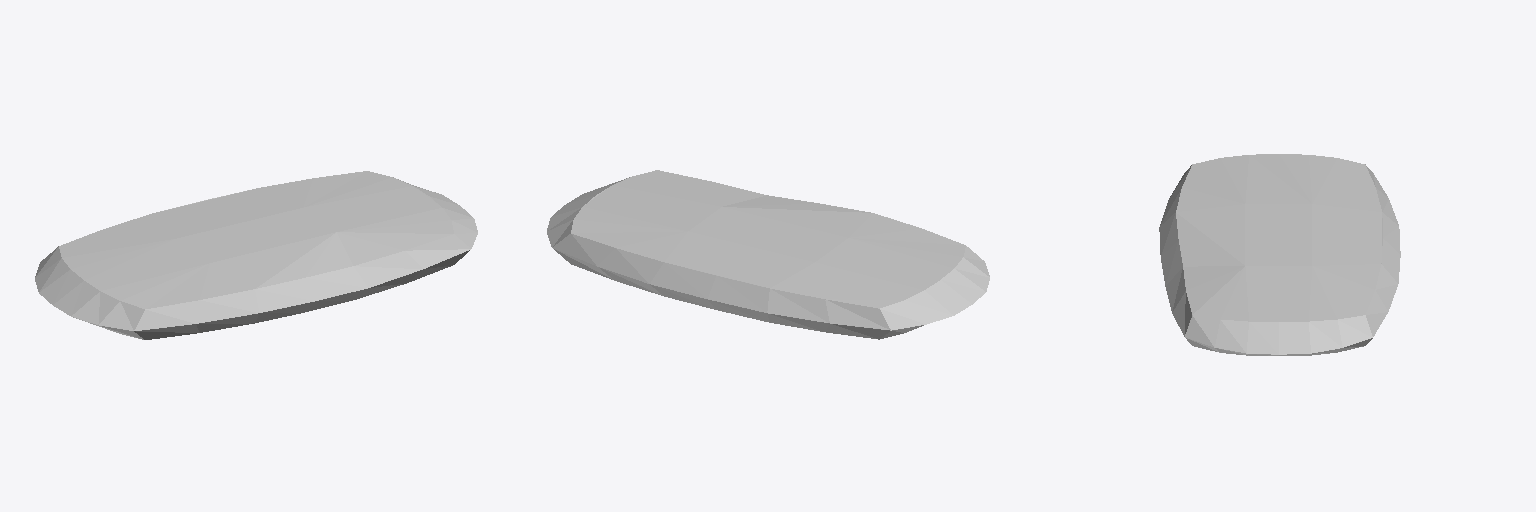
3 renders of one model, left to right at view 1: azimuth 30°, elevation 25°; view 2: azimuth 150°, elevation 25°; view 3: azimuth 270°, elevation 25°, orthographic.
Visible parts, largest first — view 1: 立方体; view 2: 立方体; view 3: 立方体.
Boxes of the visible parts, <box> form: 立方体: <box>35,171,477,339</box>; 立方体: <box>547,170,989,339</box>; 立方体: <box>1159,154,1400,355</box>.
Bounding box in the file's own units: 2.64 × 0.2596 × 1.35.